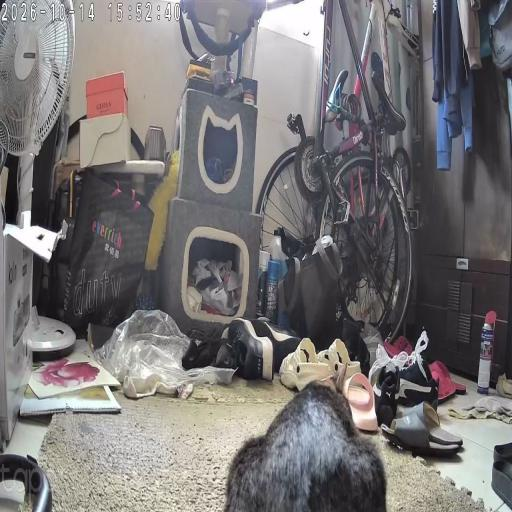cat: (229, 384, 385, 512)
